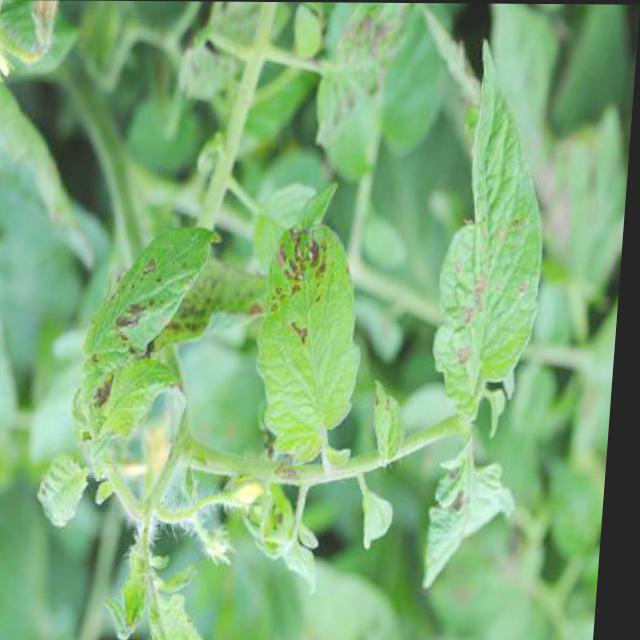Tomato late blight leaf: (430, 20, 563, 404), (262, 180, 378, 462), (72, 200, 204, 418)
